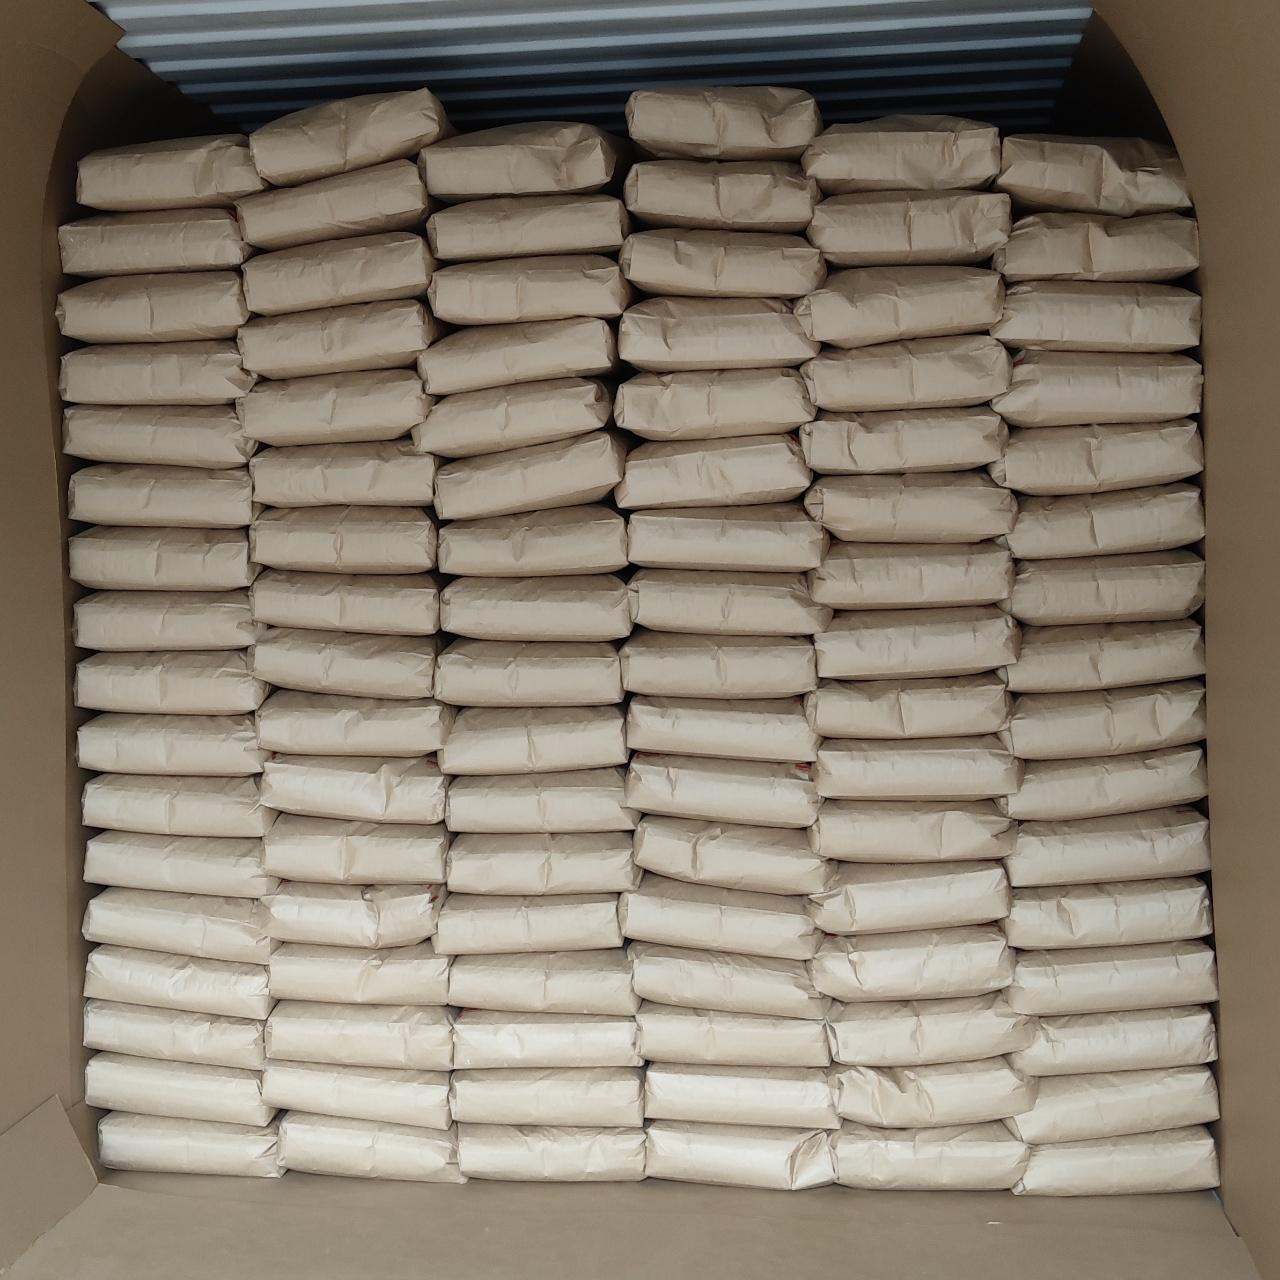sack: (249, 89, 447, 187), (235, 159, 430, 250), (619, 874, 821, 959), (434, 431, 629, 519), (1001, 807, 1209, 889), (794, 267, 1004, 347), (419, 122, 624, 203), (237, 299, 444, 379), (1001, 940, 1217, 1016), (989, 350, 1200, 427), (242, 232, 436, 315), (998, 680, 1204, 758), (994, 136, 1192, 217), (990, 419, 1201, 495), (1010, 1067, 1218, 1144), (635, 815, 835, 895), (801, 335, 1011, 411), (412, 377, 611, 457), (801, 115, 1001, 194), (806, 190, 1010, 267), (417, 317, 617, 395), (999, 745, 1207, 820), (628, 941, 827, 1019), (809, 925, 1014, 1000), (826, 992, 1033, 1066), (998, 550, 1204, 624), (237, 369, 434, 446), (989, 281, 1200, 352), (618, 297, 820, 371), (804, 471, 1017, 541), (1001, 877, 1211, 948), (1000, 619, 1204, 692), (614, 435, 813, 509), (76, 134, 267, 211), (82, 887, 272, 964), (1006, 484, 1203, 558), (815, 607, 1020, 678), (427, 255, 634, 325), (1012, 1126, 1219, 1196), (804, 862, 1008, 933), (625, 753, 820, 827), (1011, 1006, 1217, 1076), (614, 368, 815, 439), (626, 86, 821, 159), (620, 228, 826, 297), (991, 213, 1197, 282), (800, 406, 1008, 474), (832, 1057, 1034, 1127), (809, 540, 1013, 609), (56, 271, 250, 343), (628, 503, 827, 572), (84, 946, 272, 1019), (438, 504, 628, 576), (86, 1052, 273, 1125), (625, 160, 819, 230), (249, 436, 439, 507), (628, 569, 832, 635), (256, 689, 456, 756), (427, 195, 629, 261), (806, 674, 1011, 739), (60, 208, 255, 276), (277, 1111, 463, 1182), (832, 1121, 1028, 1188), (266, 1001, 453, 1071), (262, 814, 449, 884), (621, 630, 816, 697), (646, 1121, 837, 1189), (815, 735, 1021, 798), (263, 1060, 449, 1129), (254, 628, 437, 698), (83, 831, 277, 897), (83, 999, 263, 1070), (434, 638, 624, 705), (438, 707, 628, 774), (60, 340, 258, 404), (636, 1002, 830, 1067), (627, 695, 818, 761), (446, 767, 639, 832), (810, 800, 1012, 862), (449, 949, 638, 1015), (261, 755, 447, 822), (64, 404, 258, 468), (250, 569, 440, 634), (441, 575, 631, 640), (646, 1063, 838, 1127), (82, 774, 277, 837), (261, 881, 446, 947), (69, 464, 259, 528), (74, 651, 269, 713), (70, 526, 261, 589), (251, 508, 436, 573), (99, 1112, 283, 1177), (448, 832, 640, 893), (79, 714, 267, 775), (432, 894, 623, 954), (72, 591, 264, 650), (269, 941, 450, 1003), (454, 1010, 643, 1069), (451, 1069, 642, 1127), (458, 1124, 645, 1181)
